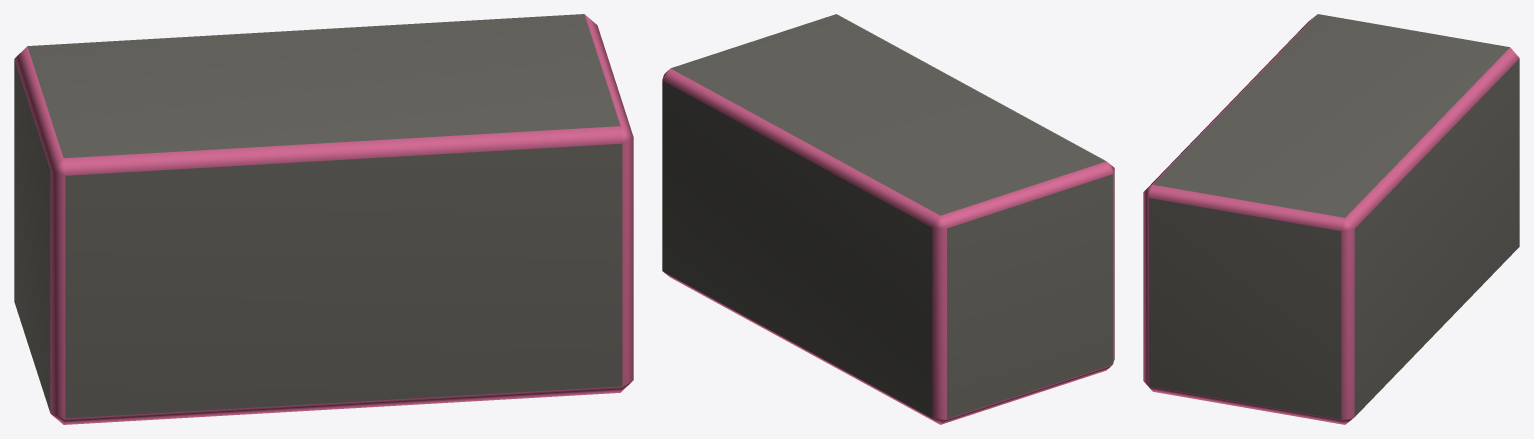
The model's file is DefaultBox.fbx.
3 views of the same model, side by side, from view 1: azimuth 30°, elevation 25°; view 2: azimuth 150°, elevation 25°; view 3: azimuth 270°, elevation 25° (orthographic). The views are drawn at different scales.
Parts seen in each view (by area): view 1: stage_void_physics_gs_new_001; view 2: stage_void_physics_gs_new_001; view 3: stage_void_physics_gs_new_001.
Part boxes in pixels (x1,y1,x2,y2): stage_void_physics_gs_new_001: [14, 14, 633, 424]; stage_void_physics_gs_new_001: [662, 14, 1114, 424]; stage_void_physics_gs_new_001: [1143, 14, 1519, 424].
Bounding box in the file's own units: 220 × 100 × 165.
